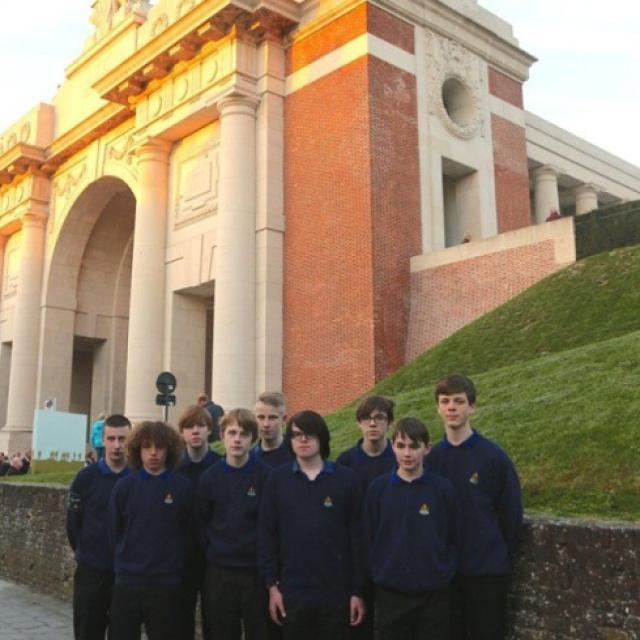body: (417, 370, 528, 638), (255, 407, 371, 640), (358, 414, 469, 639), (187, 402, 287, 639), (102, 419, 200, 640), (62, 412, 139, 640), (174, 404, 226, 636), (334, 393, 401, 500), (458, 206, 566, 251), (247, 390, 296, 469), (0, 448, 95, 476), (188, 390, 230, 446), (89, 411, 108, 465), (41, 395, 58, 410)
